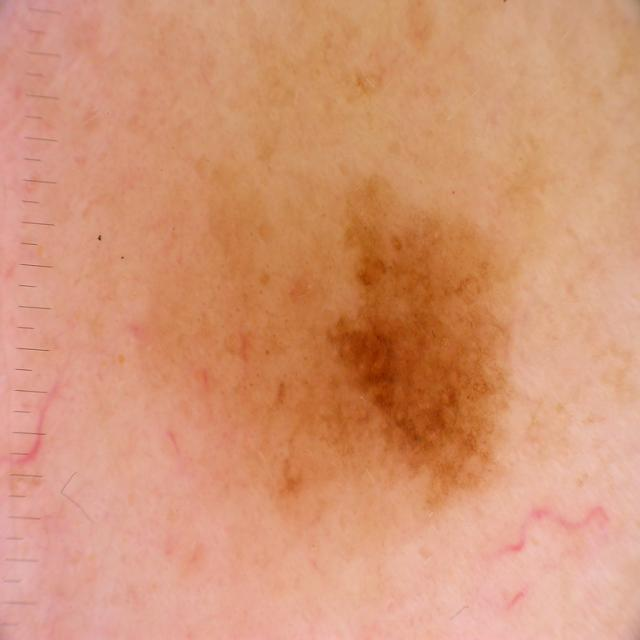Skin-Cancer Melanoma: (52, 48, 626, 593)
